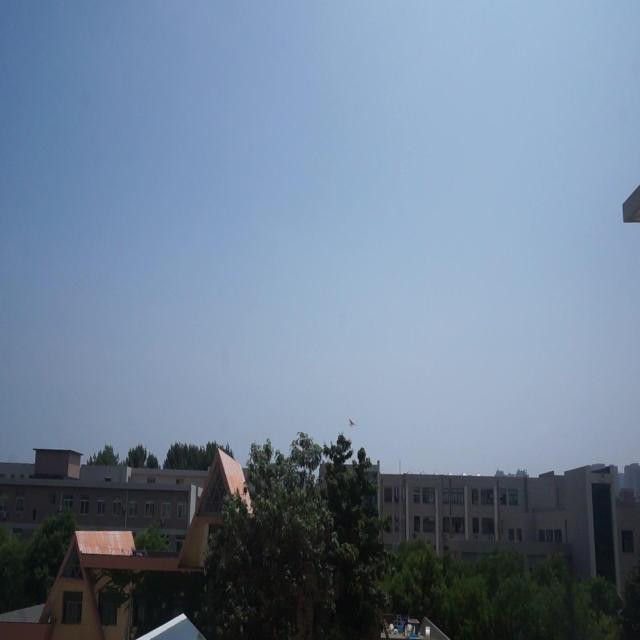drone: (347, 412, 356, 431)
